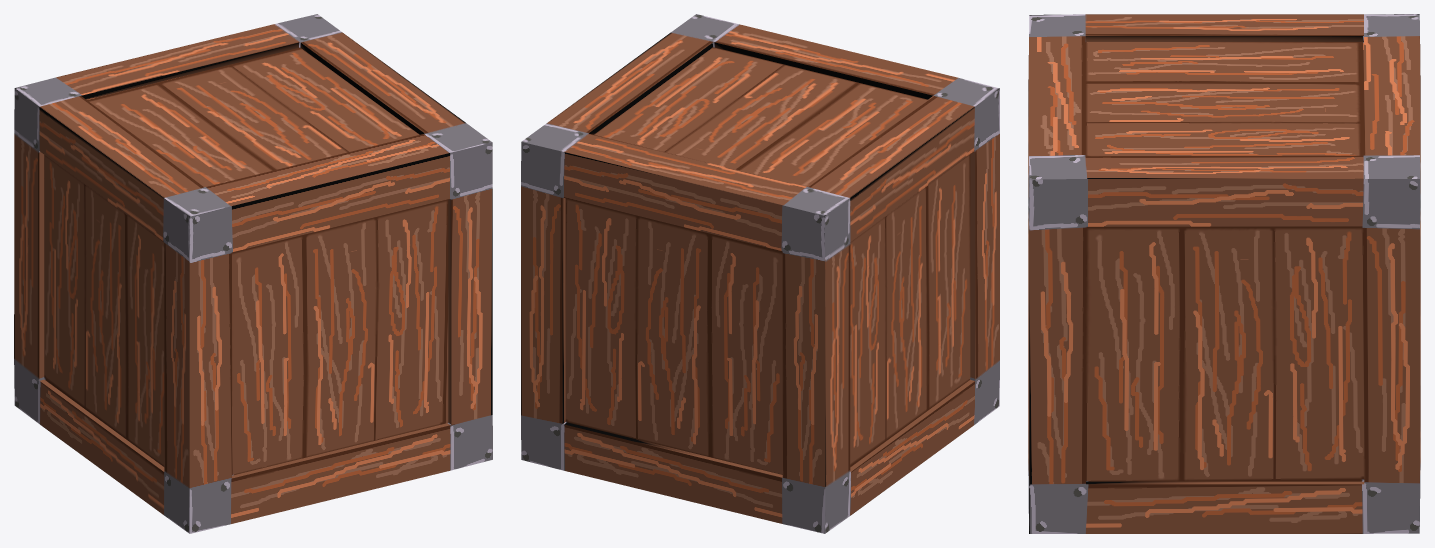
File: crate.glb
The picture shows the model from 3 angles, left to right: view 1: azimuth 30°, elevation 25°; view 2: azimuth 150°, elevation 25°; view 3: azimuth 270°, elevation 25°; orthographic projection. The views are drawn at different scales.
Visible parts, largest first — view 1: Cube; view 2: Cube; view 3: Cube.
Boxes of the visible parts, box(x1,y1,x2,y2) form: Cube: box(14, 14, 492, 533); Cube: box(521, 14, 999, 533); Cube: box(1028, 14, 1420, 533).
Size of the model in its own units: 2.01 by 2.01 by 2.01.
1 material, 1 textured.
